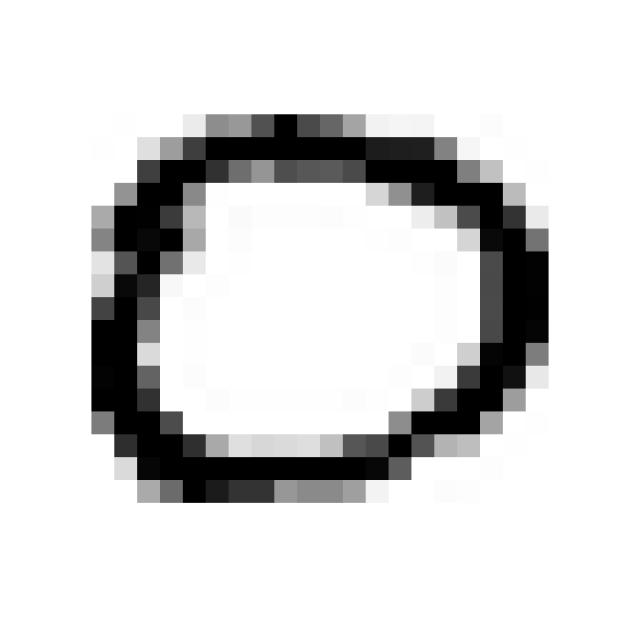5 -five-: (57, 96, 567, 525)
